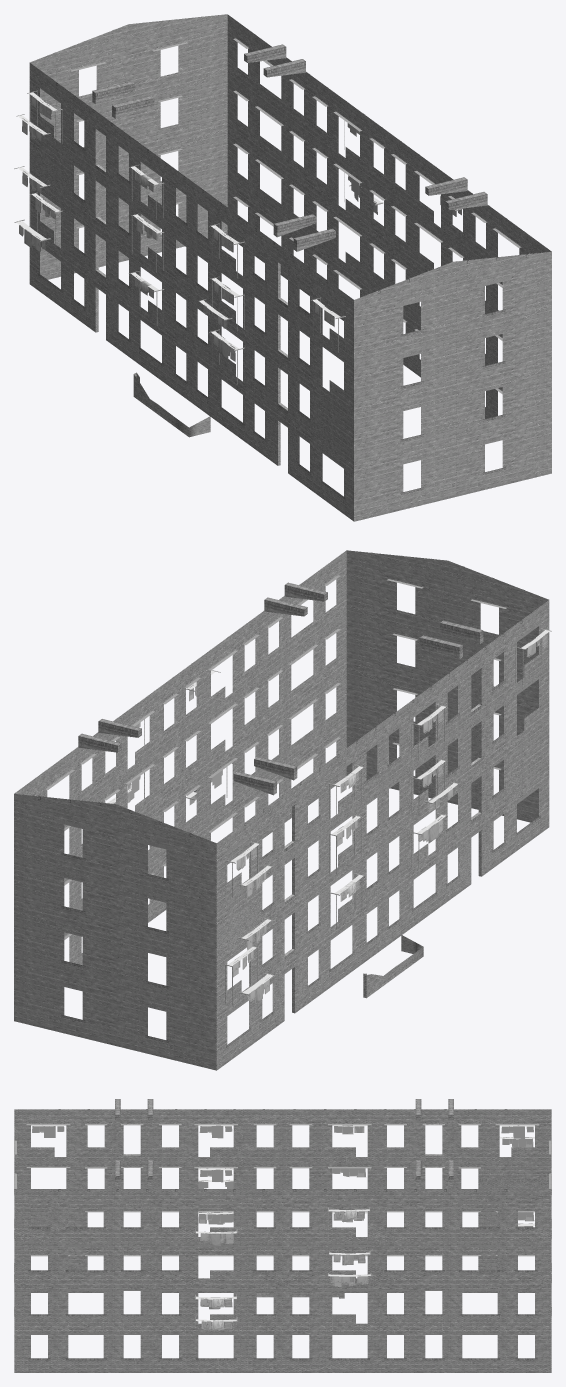
The model's file is block_of_flats_01_ru.fbx.
3 views of the same model, one above another, from view 1: azimuth 30°, elevation 25°; view 2: azimuth 150°, elevation 25°; view 3: azimuth 270°, elevation 25° (orthographic). The views are drawn at different scales.
Parts seen in each view (by area): view 1: Part1_c1 01, Part4 02, Part3_c2 01, _laundry2 01, _laundry1 02, Part2_c3 01, _laundry3 01, _laundry3 02; view 2: Part1_c1 01, Part4 02, Part3_c2 01, _laundry2 01, _laundry1 02, Part2_c3 01, _laundry3 01, _laundry3 02, _laundry2 02; view 3: Part1_c1 01, Part3_c2 01, _laundry1 02, Part4 02, _laundry3 01, _laundry1 03, _laundry2 01, _laundry2 03, _laundry3 03.
Boxes of the visible parts, bbox=[...] form: Part1_c1 01: bbox=[29, 14, 551, 521]; Part4 02: bbox=[92, 44, 487, 437]; Part3_c2 01: bbox=[37, 38, 529, 469]; _laundry2 01: bbox=[16, 92, 381, 305]; _laundry1 02: bbox=[18, 115, 461, 360]; Part2_c3 01: bbox=[29, 148, 299, 472]; _laundry3 01: bbox=[18, 123, 377, 361]; _laundry3 02: bbox=[17, 121, 383, 384]; Part1_c1 01: bbox=[14, 550, 549, 1070]; Part4 02: bbox=[78, 582, 483, 998]; Part3_c2 01: bbox=[36, 575, 541, 1017]; _laundry2 01: bbox=[107, 760, 445, 1003]; _laundry1 02: bbox=[127, 670, 457, 901]; Part2_c3 01: bbox=[216, 823, 493, 1020]; _laundry3 01: bbox=[113, 630, 549, 999]; _laundry3 02: bbox=[144, 628, 551, 1006]; _laundry2 02: bbox=[131, 758, 447, 995]; Part1_c1 01: bbox=[14, 1109, 551, 1372]; Part3_c2 01: bbox=[14, 1124, 551, 1334]; _laundry1 02: bbox=[196, 1125, 534, 1329]; Part4 02: bbox=[115, 1099, 453, 1298]; _laundry3 01: bbox=[31, 1125, 534, 1309]; _laundry1 03: bbox=[198, 1125, 532, 1320]; _laundry2 01: bbox=[196, 1125, 534, 1307]; _laundry2 03: bbox=[200, 1125, 533, 1274]; _laundry3 03: bbox=[32, 1126, 533, 1298].
Size of the model in its own units: 16.72 by 16.41 by 38.39.
